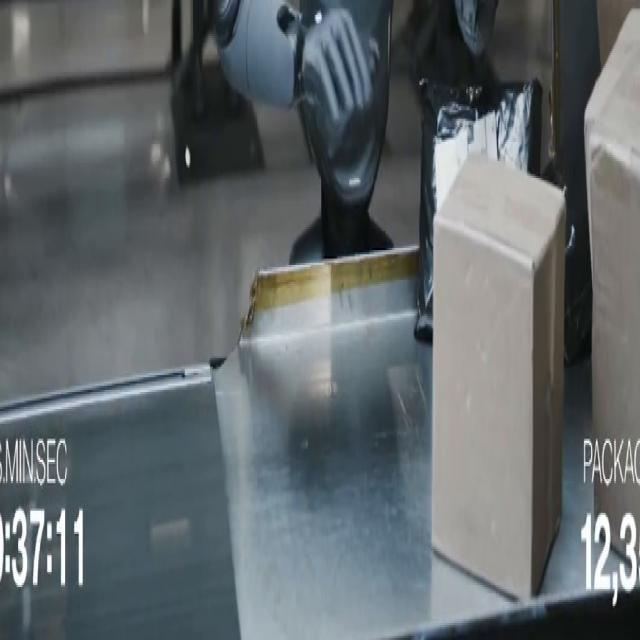package: (433, 157, 565, 599), (415, 81, 542, 341), (585, 11, 639, 555), (597, 0, 639, 67)
